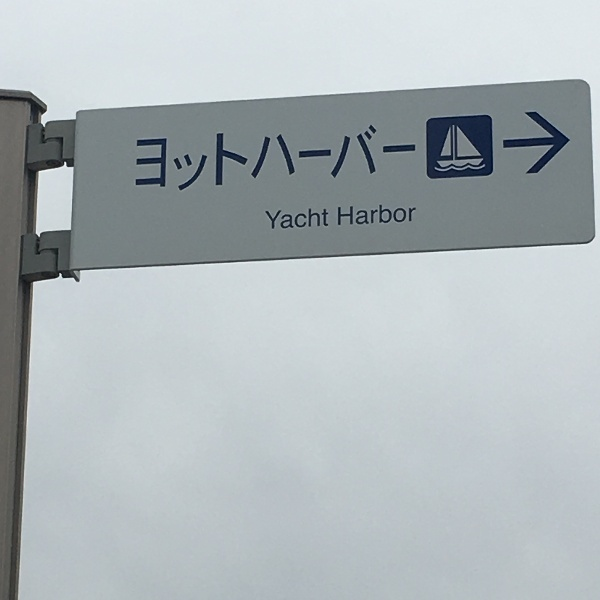text: (145, 118, 160, 195), (161, 118, 176, 195), (177, 118, 192, 195), (193, 118, 208, 195), (209, 118, 224, 195), (225, 118, 240, 195), (241, 118, 256, 195), (257, 118, 272, 195), (273, 118, 288, 195), (289, 118, 304, 195), (305, 118, 320, 195), (321, 118, 336, 195), (337, 118, 352, 195), (353, 118, 368, 195), (369, 118, 384, 195), (385, 118, 400, 195), (401, 118, 416, 195), (137, 118, 144, 195), (401, 203, 417, 226), (273, 208, 288, 231), (289, 208, 304, 231), (305, 208, 320, 231), (353, 203, 368, 226), (369, 203, 384, 226), (385, 203, 400, 226), (338, 203, 352, 226), (417, 118, 421, 195), (321, 208, 329, 231), (265, 208, 272, 231)
